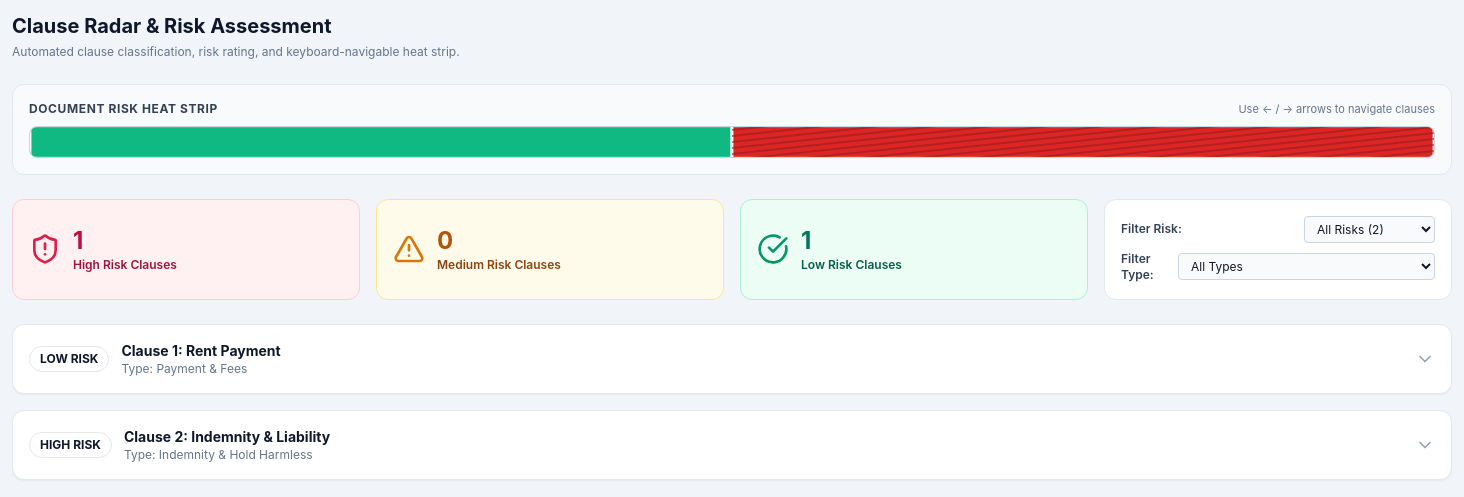
Test case: Parameter 4 & 5 — Component & Accessibility Tests (18 tests) › 8. ClauseRadar filters clauses by risk level (high, medium, low)
The width and height of the screenshot is (1464, 497).
Check: the heading "Clause 1: Rent Payment" is shown, box x1=122 y1=340 x2=281 y2=360
Check: the heading "Clause 2: Indemnity & Liability" is shown, box x1=124 y1=426 x2=330 y2=446
Select "High Risk (1)" in the dropdown labelled "Filter Risk:" at (1370, 229), box x1=1304 y1=216 x2=1435 y2=242
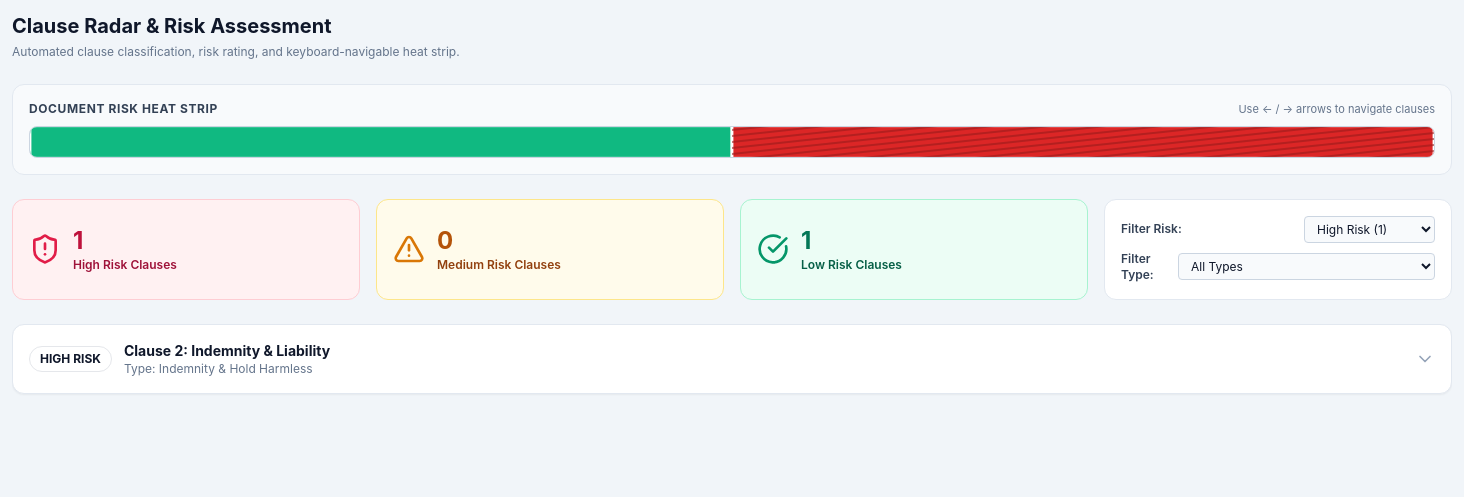
Check: the heading "Clause 2: Indemnity & Liability" is shown, box x1=124 y1=340 x2=330 y2=360
Check: the button "Clause 1: Rent Payment" is gone
